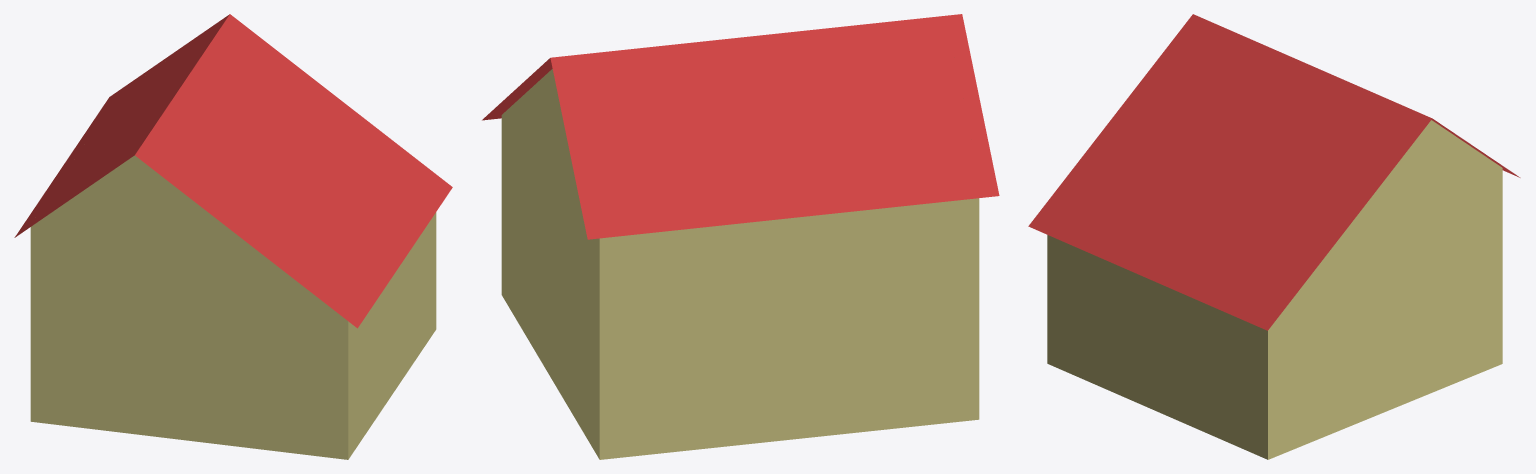
The picture shows the model from 3 angles, left to right: view 1: azimuth 30°, elevation 25°; view 2: azimuth 150°, elevation 25°; view 3: azimuth 270°, elevation 25°; orthographic projection. The views are drawn at different scales.
Size of the model in its own units: 18.42 by 18.43 by 11.62.
